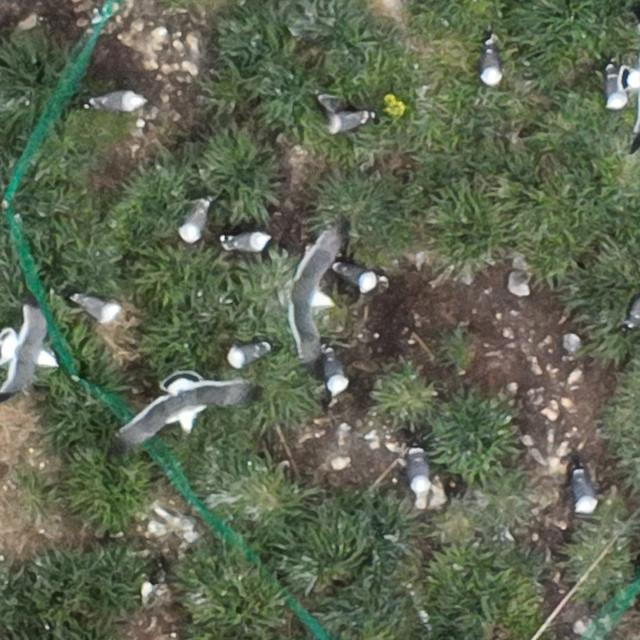F: (129, 375, 255, 439), (288, 245, 334, 348), (3, 308, 55, 391)
umineko: (78, 298, 119, 321), (182, 206, 207, 242), (336, 266, 375, 289), (95, 91, 140, 110), (227, 231, 268, 251), (408, 454, 428, 494), (230, 342, 264, 364), (480, 46, 500, 83), (324, 356, 345, 391), (574, 474, 594, 510), (330, 112, 366, 132), (627, 290, 640, 323)
